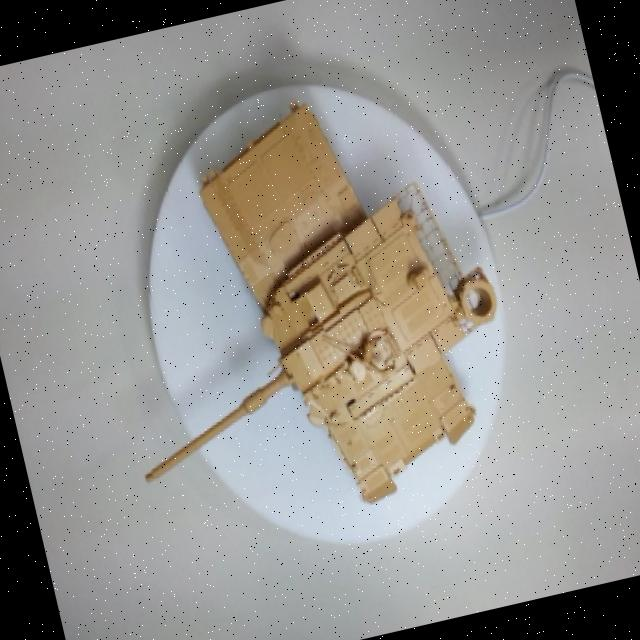korea tank: (31, 75, 539, 590)
